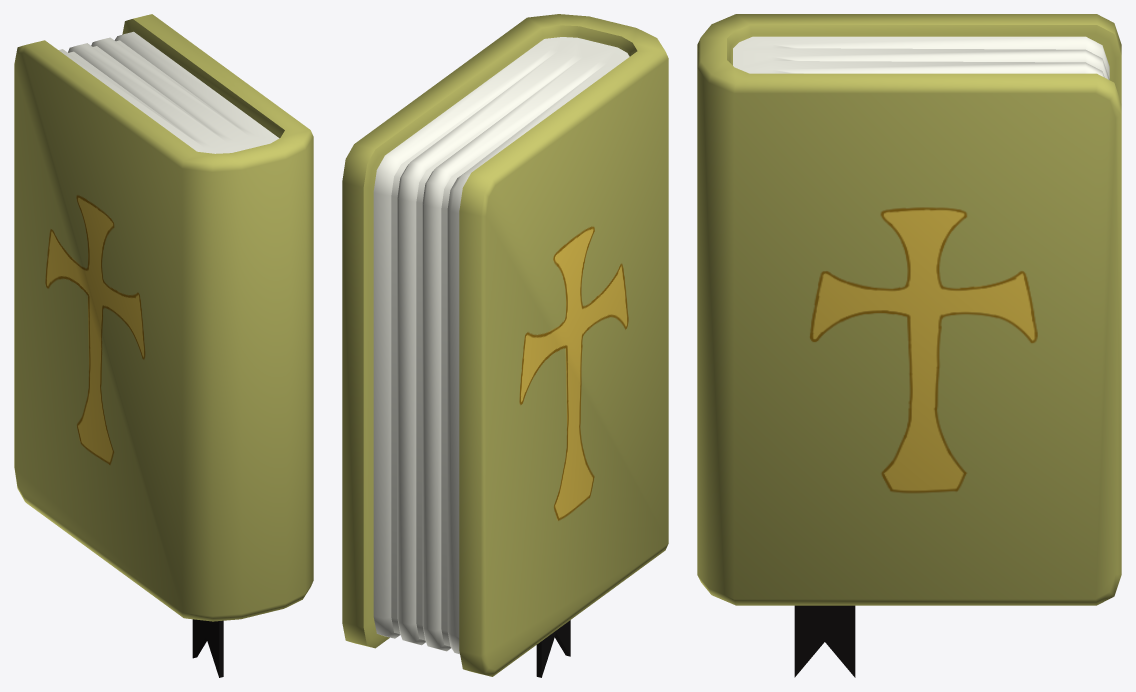
File: BookD.fbx
3 renders of one model, left to right at view 1: azimuth 30°, elevation 25°; view 2: azimuth 150°, elevation 25°; view 3: azimuth 270°, elevation 25°, orthographic. The views are drawn at different scales.
Parts seen in each view (by area): view 1: Book D; view 2: Book D; view 3: Book D.
Part boxes in pixels (bbox=[...]): Book D: bbox=[14, 14, 313, 677]; Book D: bbox=[342, 14, 668, 677]; Book D: bbox=[697, 14, 1121, 677].
Size of the model in its own units: 0.2134 by 0.8547 by 0.524.
